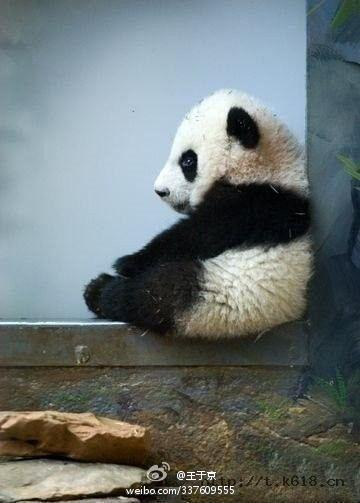panda: (80, 83, 315, 344)
